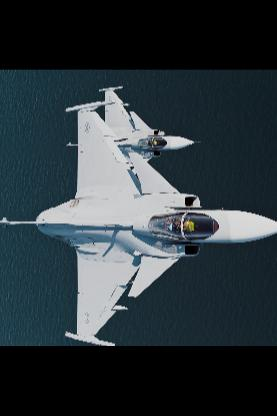JAS39: (0, 99, 276, 347), (60, 86, 200, 174)
